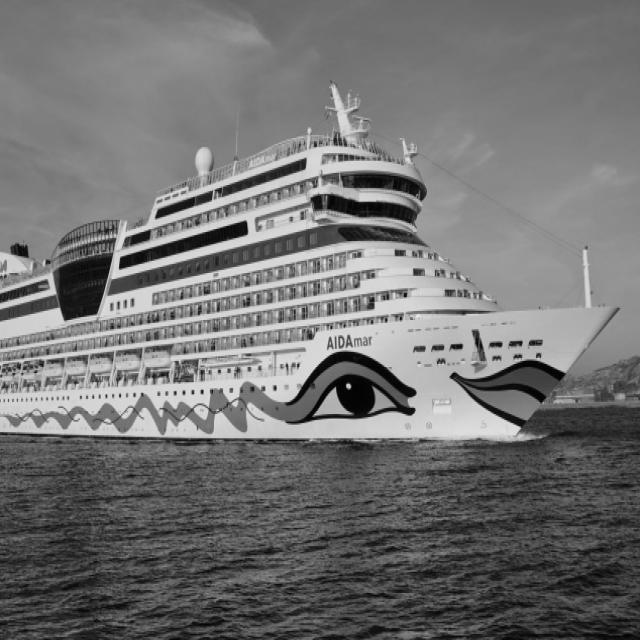cruises: (1, 74, 628, 450)
